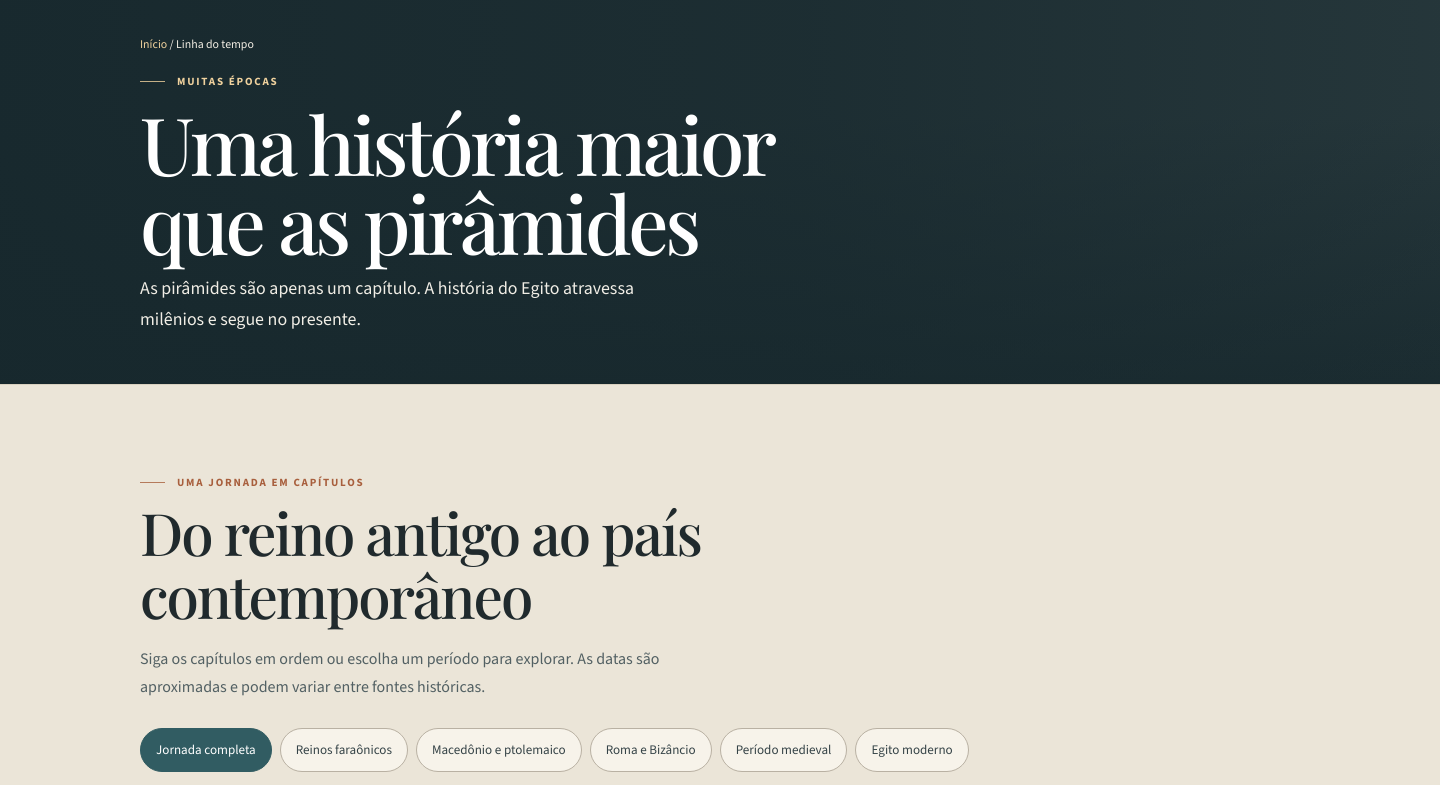
Test: TimelinePage › filtra por capítulo, atualiza a contagem e restaura a jornada completa
Click the button "Período medieval" at (784, 750), box [720, 728, 847, 772]
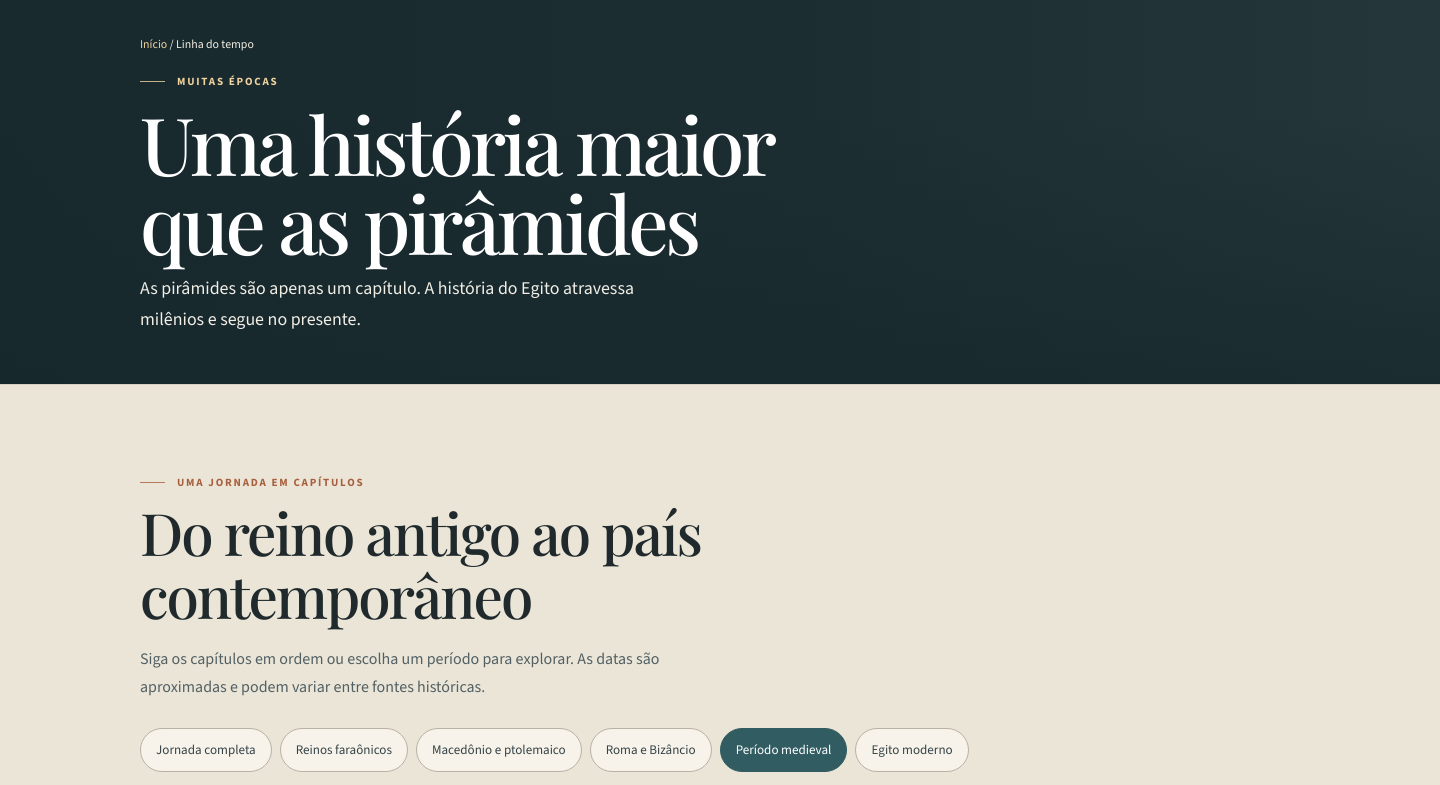
Click the button "Jornada completa" at (206, 750), box [140, 728, 272, 772]
(page scrolled)
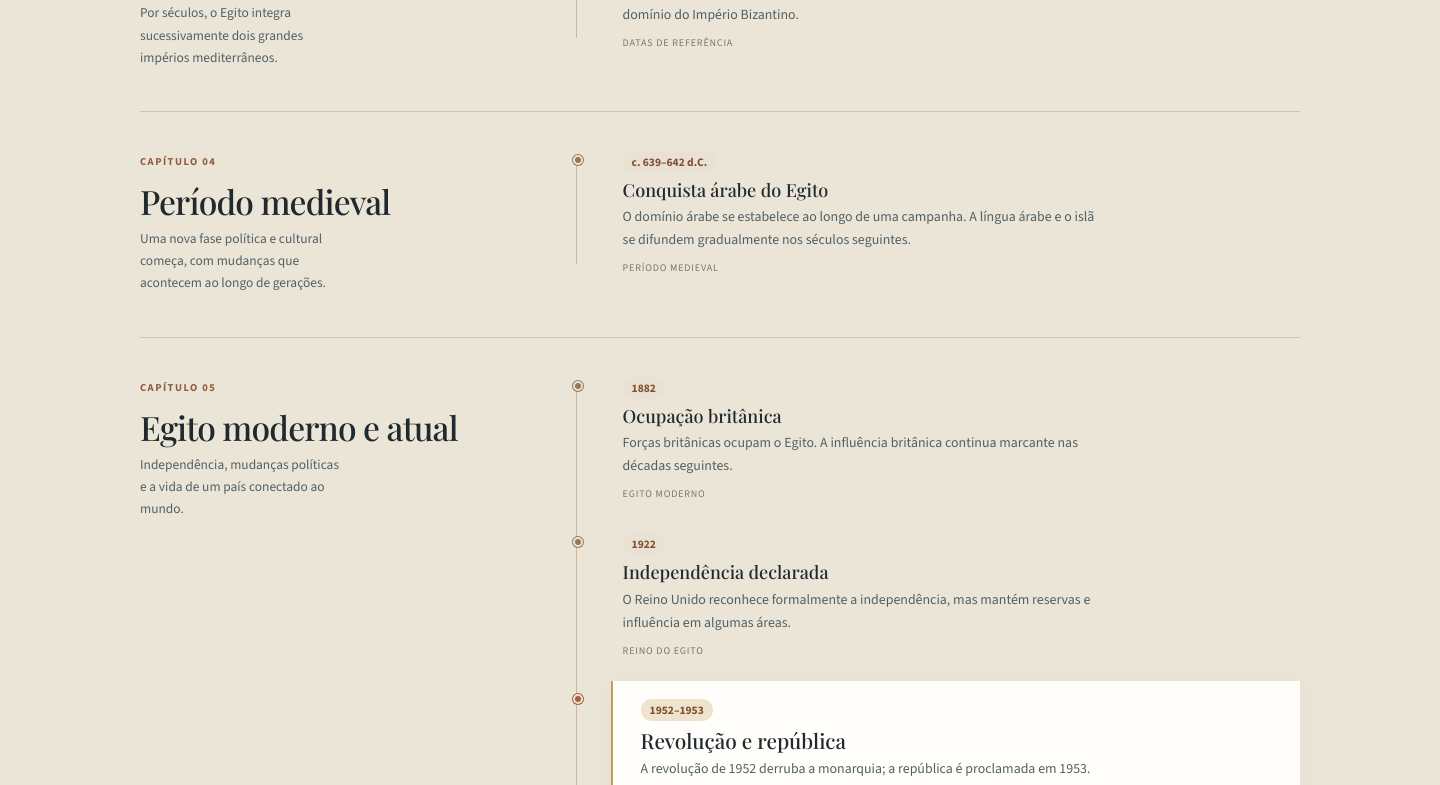
Expected: the heading "Período medieval" is shown, [140, 179, 390, 223]
Now the heading "Egito moderno e atual" is shown, box [140, 408, 490, 447]
